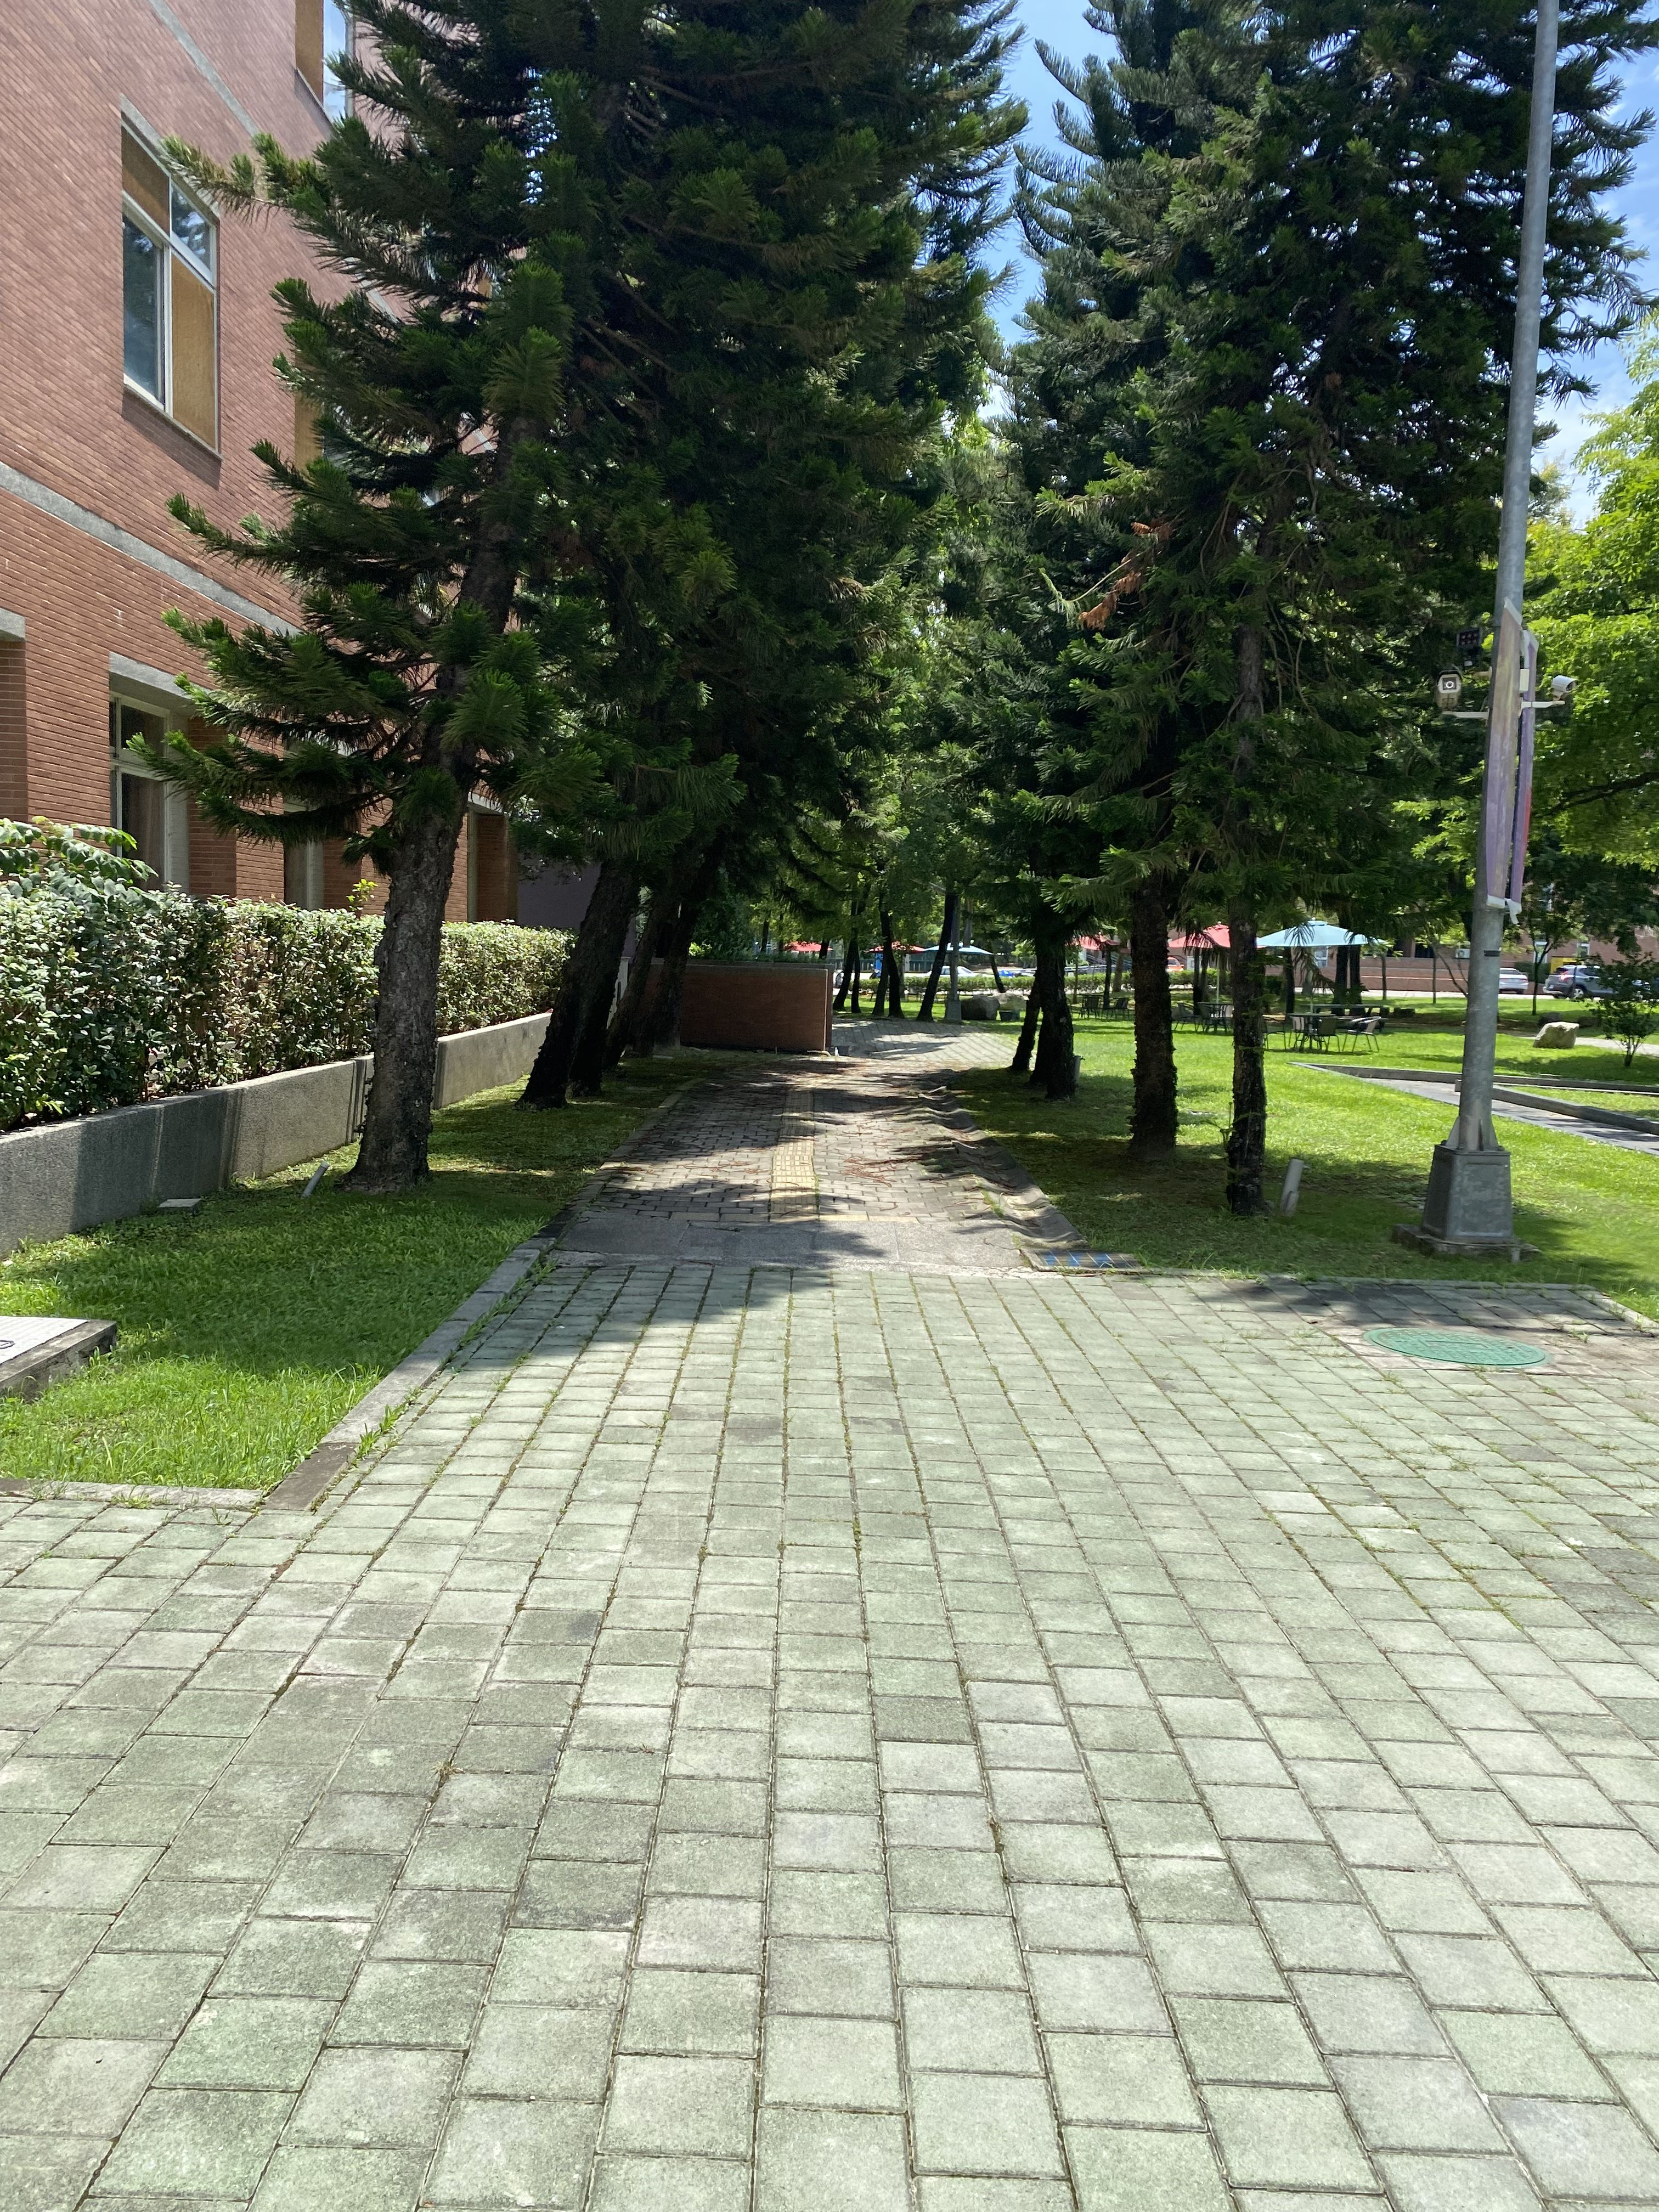sidewalk: (538, 998, 1635, 2212)
